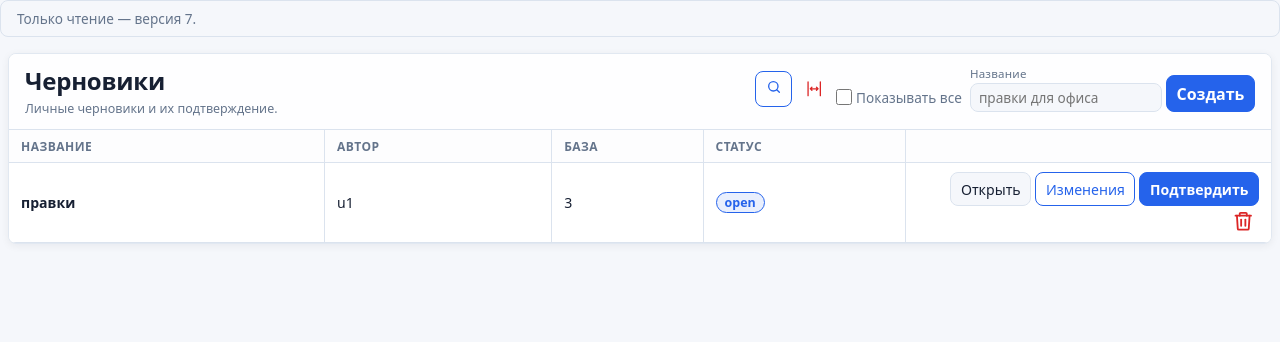
Test case: DraftsPage › shows all drafts for admins when toggled
Click the checkbox labelled "Показывать все". click: (844, 97)
box: [836,89,852,105]
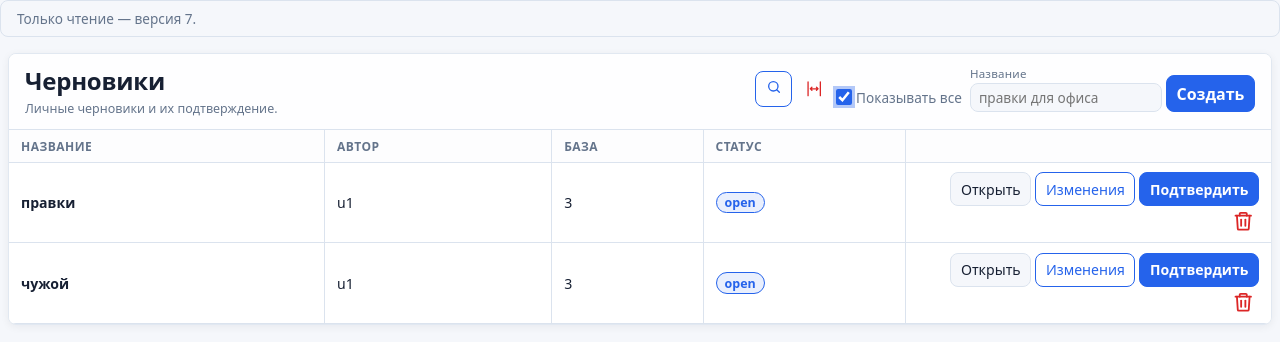
Expected: the text "чужой" is shown, [21,274,69,293]
